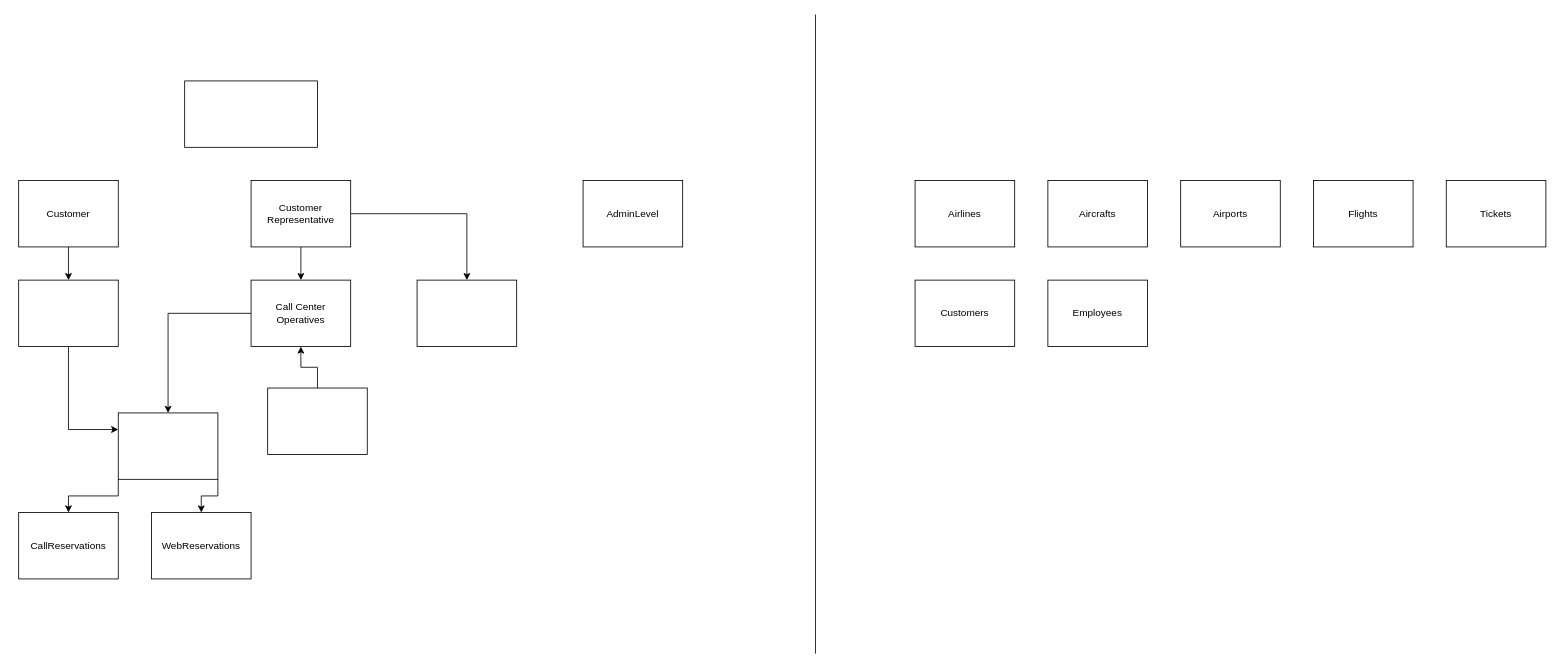
This 1560x669 diagram has some shape labels left out. Each missing label, with the centre of its shape:
Call Center Managers: (x=317, y=420)
HelpDesk: (x=466, y=313)
Passengers/Dependents: (x=68, y=313)
Reservations: (x=167, y=445)
Top Level: (x=250, y=113)
